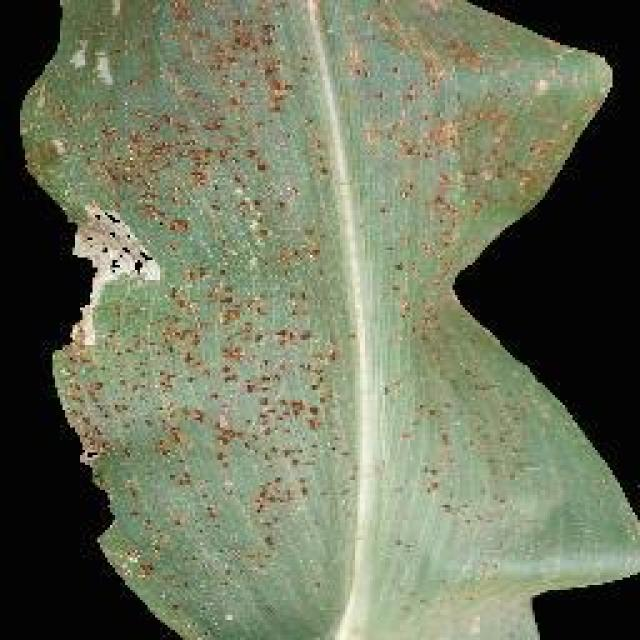Corn Common Rust: (49, 35, 628, 640)
